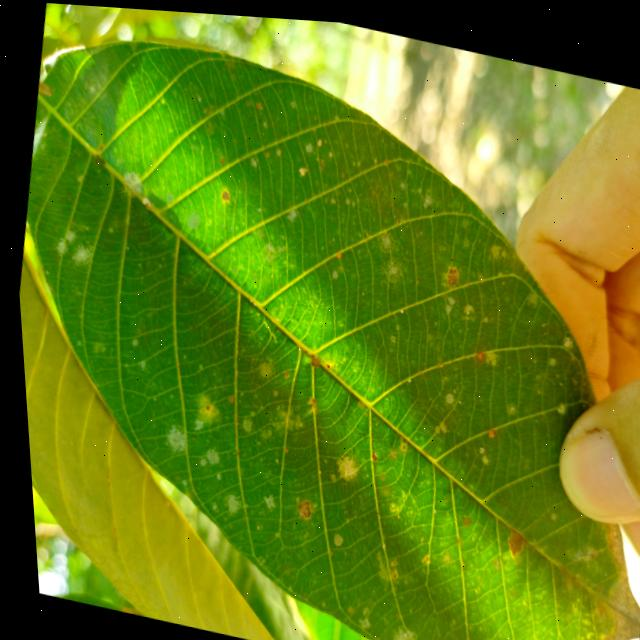Colletotrichum: (289, 493, 307, 516), (443, 262, 456, 279)
